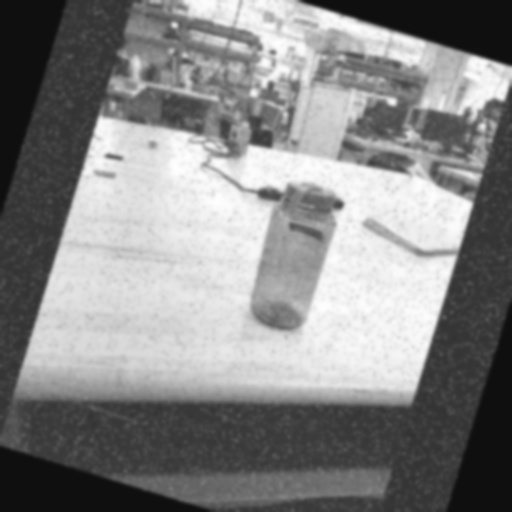bottle: (238, 173, 346, 335)
